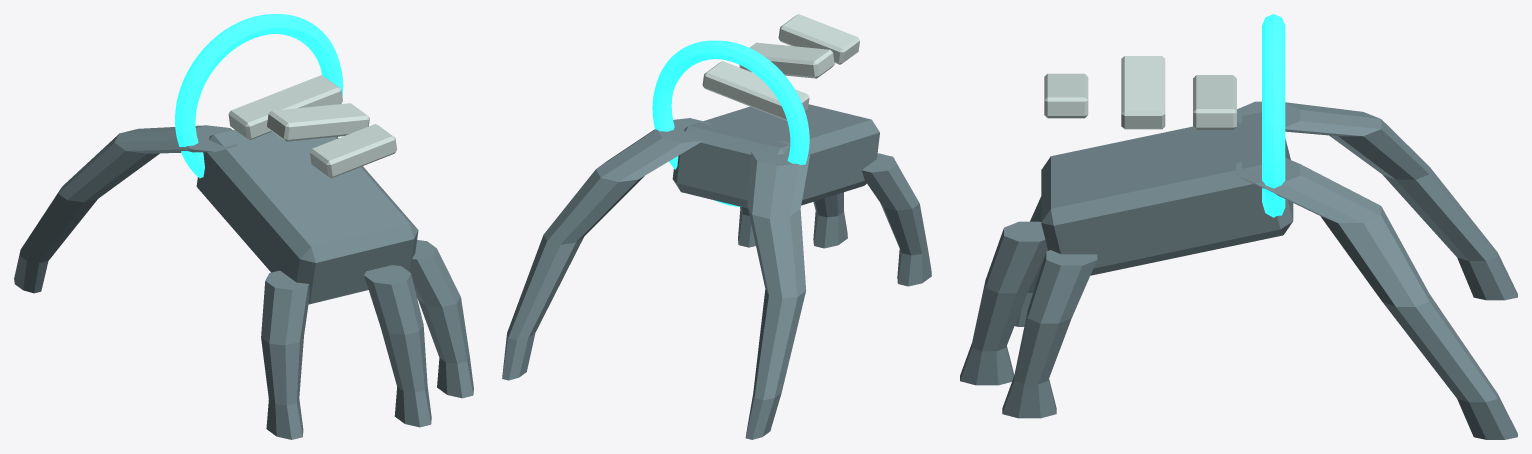
File: hound_blockout_v1.glb
3 renders of one model, left to right at view 1: azimuth 30°, elevation 25°; view 2: azimuth 150°, elevation 25°; view 3: azimuth 270°, elevation 25°, orthographic. The views are drawn at different scales.
Parts seen in each view (by area): view 1: body_core, front_leg_L, rear_leg_A, rear_leg_C, shoulder_ring, rear_leg_B, spine_plate_01, spine_plate_02, spine_plate_03; view 2: body_core, front_leg_L, front_leg_R, shoulder_ring, rear_leg_A, spine_plate_01, spine_plate_03, spine_plate_02, rear_leg_C, rear_leg_B; view 3: body_core, front_leg_R, front_leg_L, rear_leg_B, rear_leg_C, shoulder_ring, spine_plate_02, spine_plate_01, spine_plate_03, rear_leg_A.
Boxes of the visible parts, x1,y1,x2,y2 form: body_core: [196, 129, 418, 304]; front_leg_L: [14, 125, 237, 293]; rear_leg_A: [261, 270, 309, 439]; rear_leg_C: [364, 265, 431, 427]; shoulder_ring: [175, 14, 343, 178]; rear_leg_B: [410, 240, 473, 398]; spine_plate_01: [228, 75, 342, 139]; spine_plate_02: [267, 103, 369, 141]; spine_plate_03: [310, 124, 396, 178]; body_core: [672, 104, 879, 208]; front_leg_L: [745, 141, 809, 439]; front_leg_R: [502, 118, 710, 380]; shoulder_ring: [652, 40, 809, 206]; rear_leg_A: [861, 153, 931, 286]; spine_plate_01: [702, 61, 809, 120]; spine_plate_03: [778, 14, 859, 64]; spine_plate_02: [739, 42, 834, 78]; rear_leg_C: [813, 192, 847, 248]; rear_leg_B: [738, 207, 755, 247]; body_core: [1041, 112, 1293, 275]; front_leg_R: [1236, 158, 1517, 439]; front_leg_L: [1237, 101, 1517, 300]; rear_leg_B: [1002, 250, 1097, 418]; rear_leg_C: [960, 221, 1047, 385]; shoulder_ring: [1262, 14, 1285, 217]; spine_plate_02: [1121, 56, 1165, 129]; spine_plate_01: [1193, 75, 1236, 129]; spine_plate_03: [1044, 73, 1088, 118]; rear_leg_A: [1014, 196, 1048, 326].
Size of the model in its own units: 1.98 by 2.05 by 3.04.
